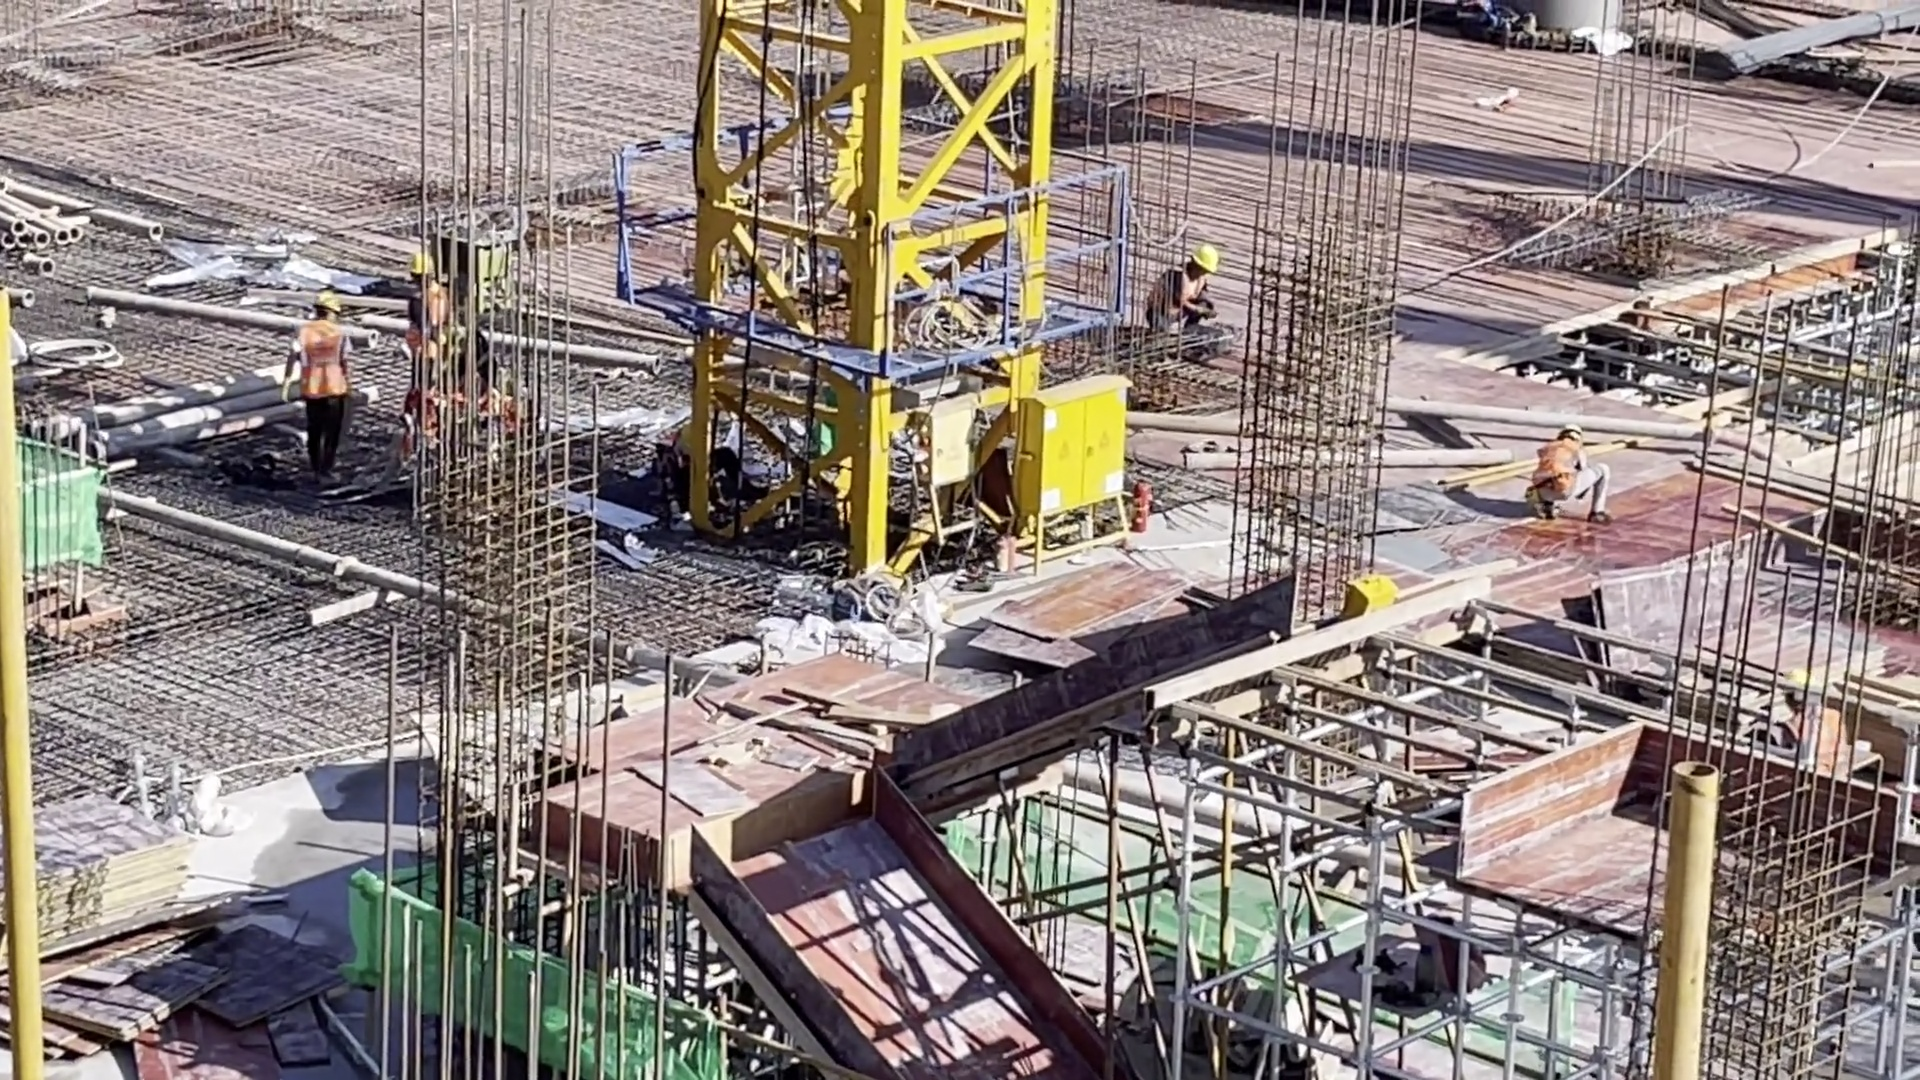board: (39, 881, 346, 1080), (10, 785, 187, 952)
ebox: (1013, 367, 1136, 569), (922, 385, 987, 549), (1337, 570, 1401, 618)
helmet: (1772, 664, 1816, 696), (1186, 241, 1225, 276), (304, 287, 348, 309)
person: (281, 287, 359, 484), (1522, 424, 1610, 525), (1774, 667, 1853, 774), (1147, 236, 1226, 339), (402, 245, 448, 403)
rebar: (1702, 1, 1920, 86)
vest: (297, 321, 344, 410), (1785, 705, 1852, 758), (1147, 273, 1209, 329), (1535, 439, 1582, 498)
